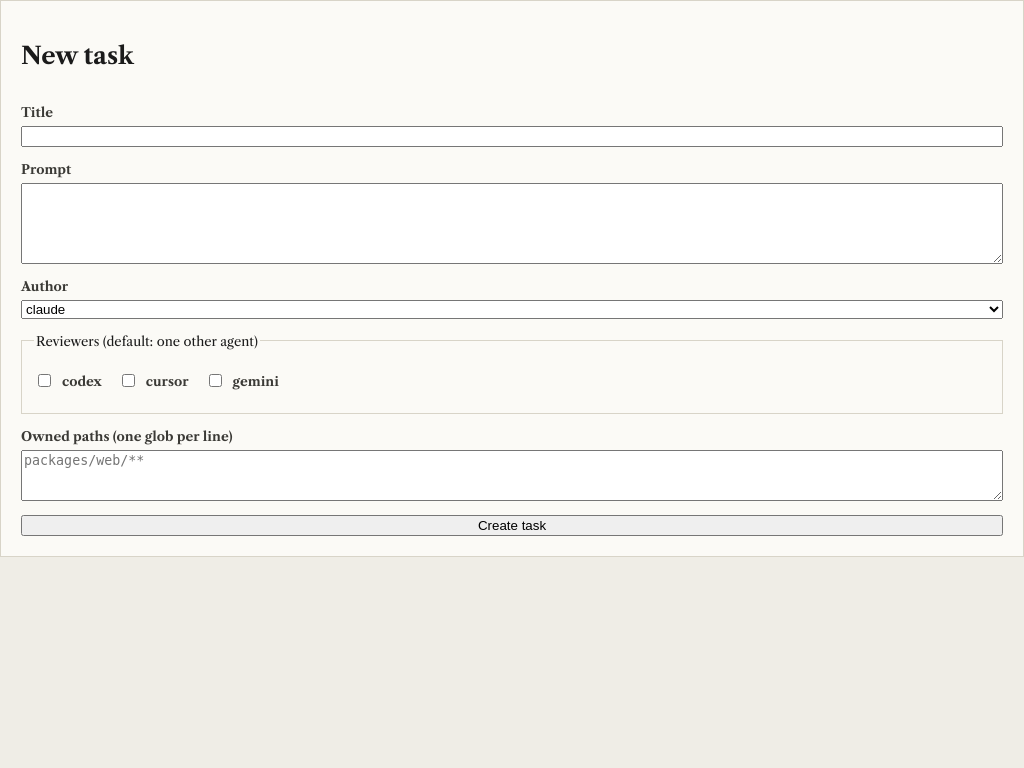
CreateTaskForm › shows a validation error instead of submitting
This screenshot has width=1024, height=768.
Type "x" into the field labelled "Title" at (512, 136), box [21,126,1003,147]
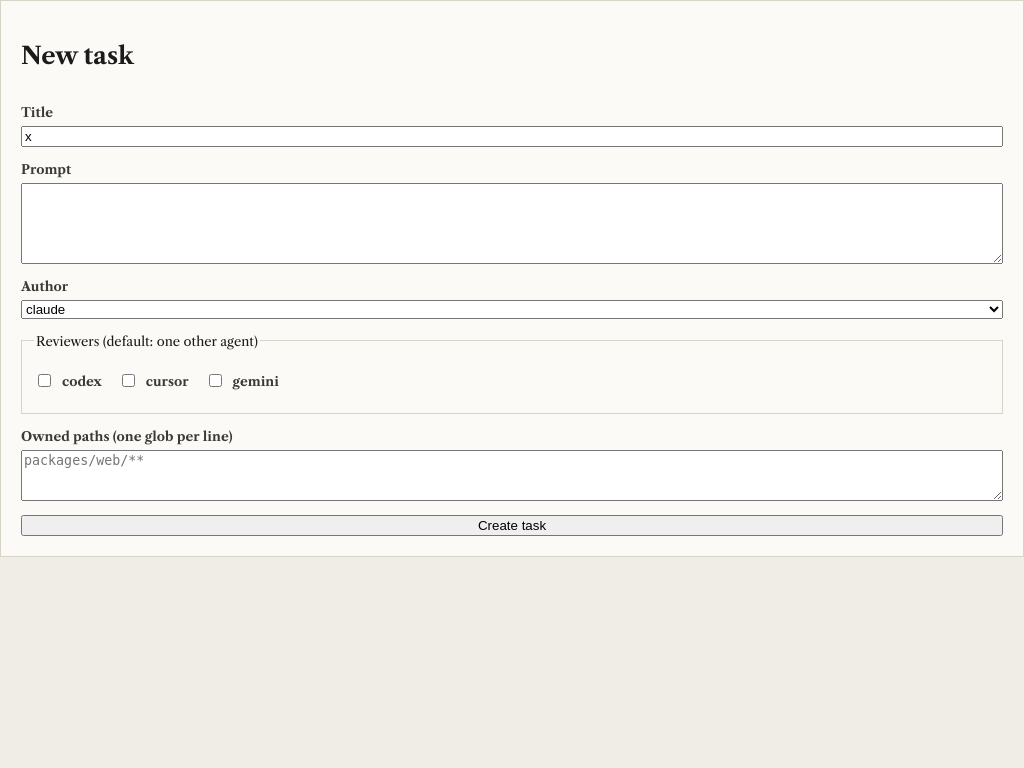
Type "y" into the text box labelled "Prompt" at (512, 223), box [21,183,1003,264]
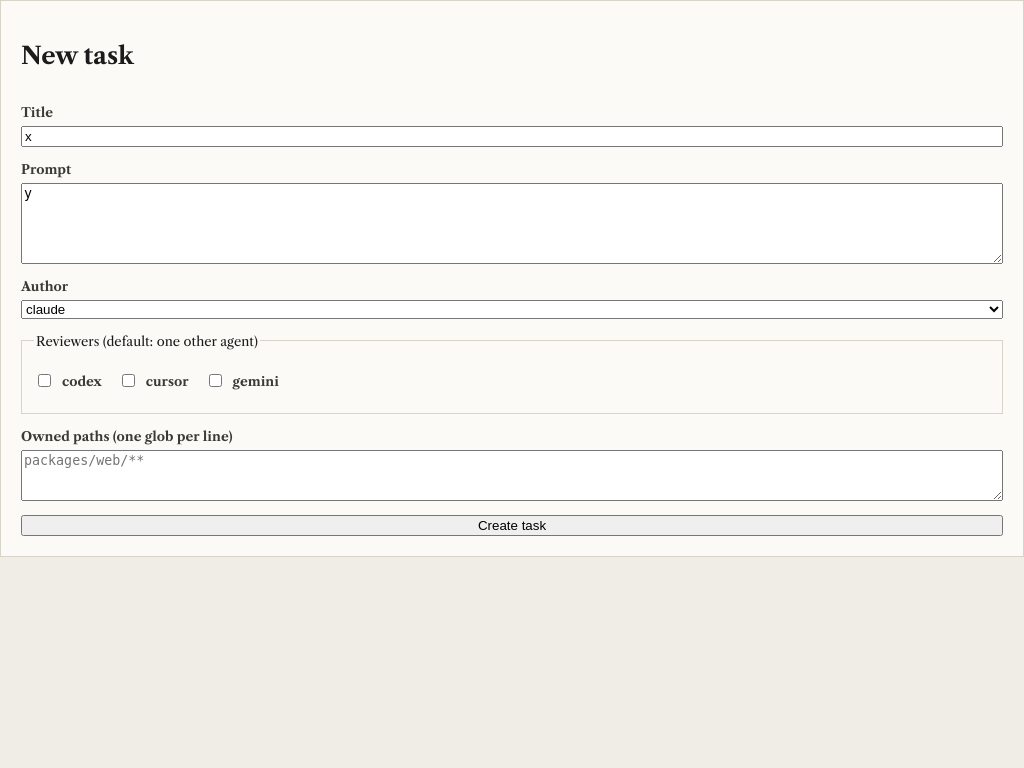
Submit the form named "Create task"
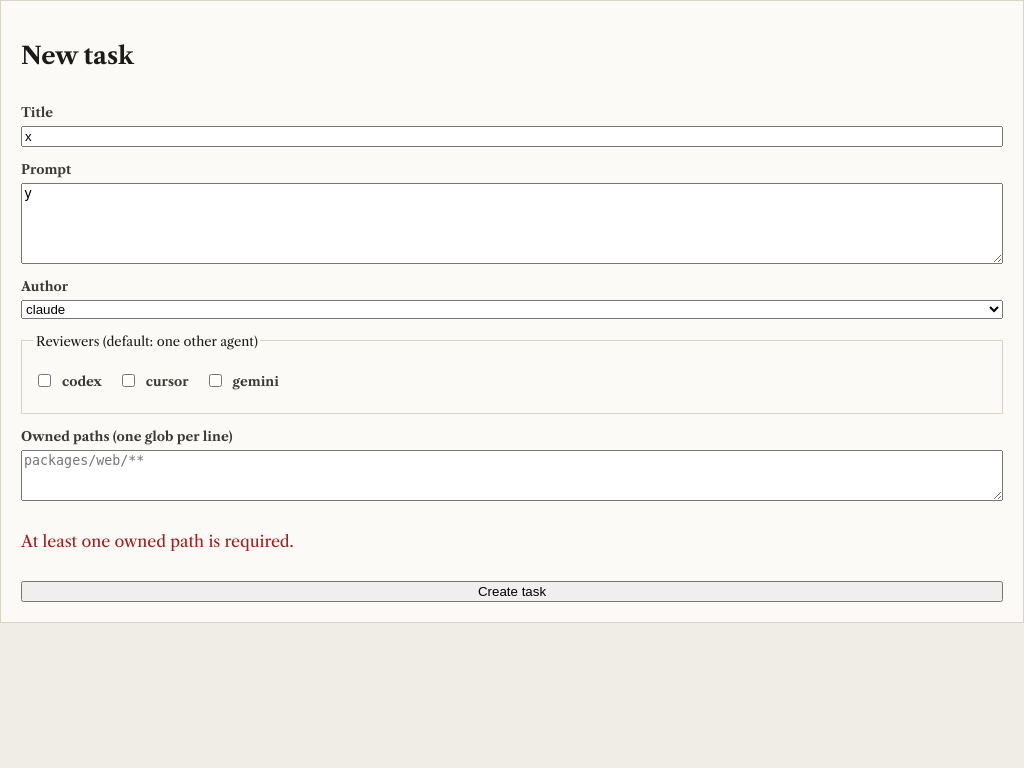
Now the message shows "owned path", box [21,531,294,551]
